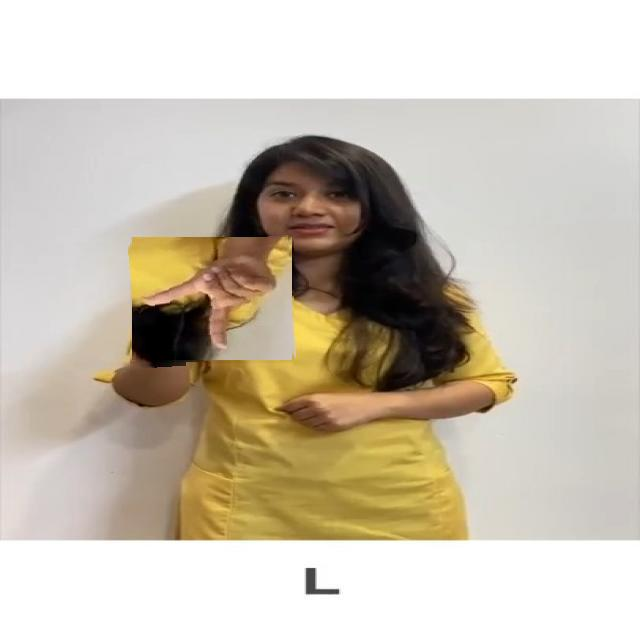L: (130, 238, 294, 366)
